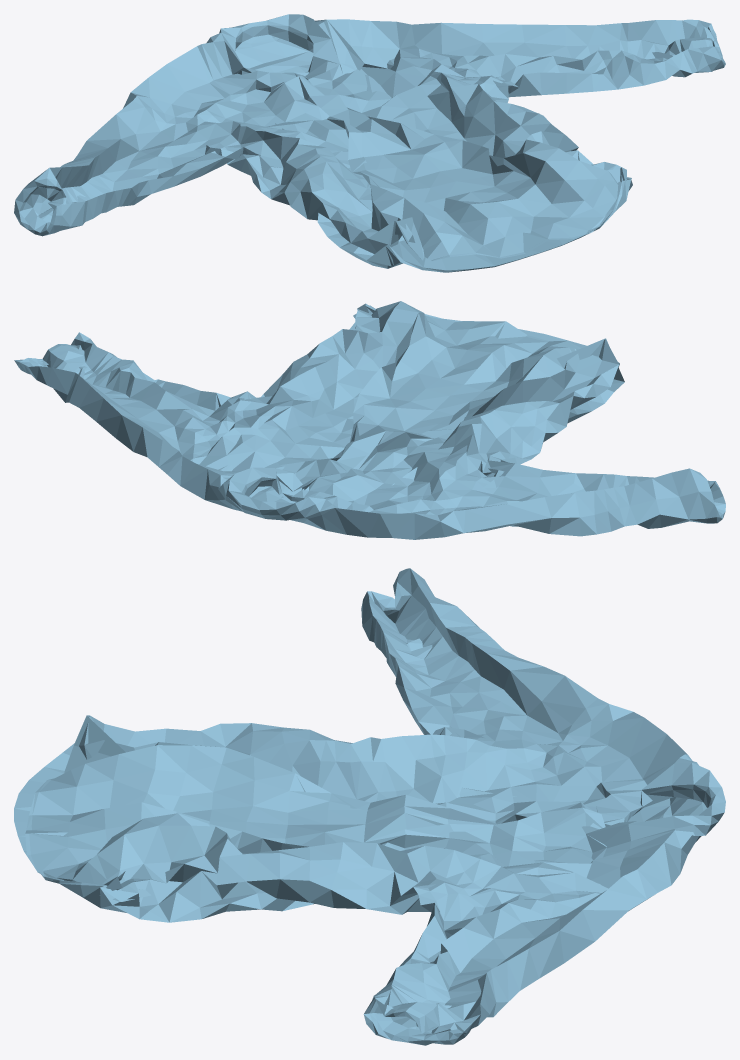
File: frame_00.glb
The picture shows the model from 3 angles, top to bottom: view 1: azimuth 30°, elevation 25°; view 2: azimuth 150°, elevation 25°; view 3: azimuth 270°, elevation 25°; orthographic projection. The views are drawn at different scales.
Parts seen in each view (by area): view 1: frame_00.obj; view 2: frame_00.obj; view 3: frame_00.obj.
Boxes of the visible parts, <box> form: frame_00.obj: <box>14,14,725,272</box>; frame_00.obj: <box>14,301,725,539</box>; frame_00.obj: <box>14,568,725,1045</box>.
Size of the model in its own units: 1.99 by 0.1961 by 1.37.
